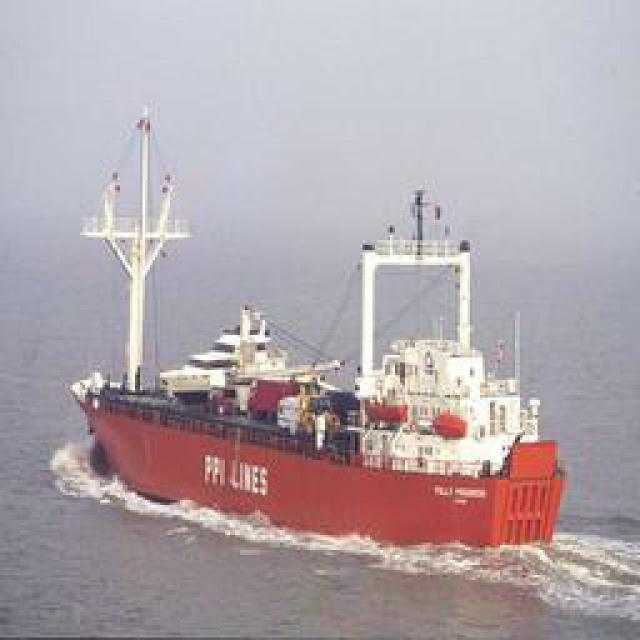Ship: (64, 156, 579, 554)
